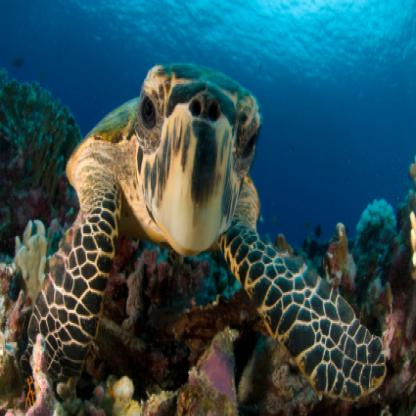turtle: (122, 55, 268, 267)
